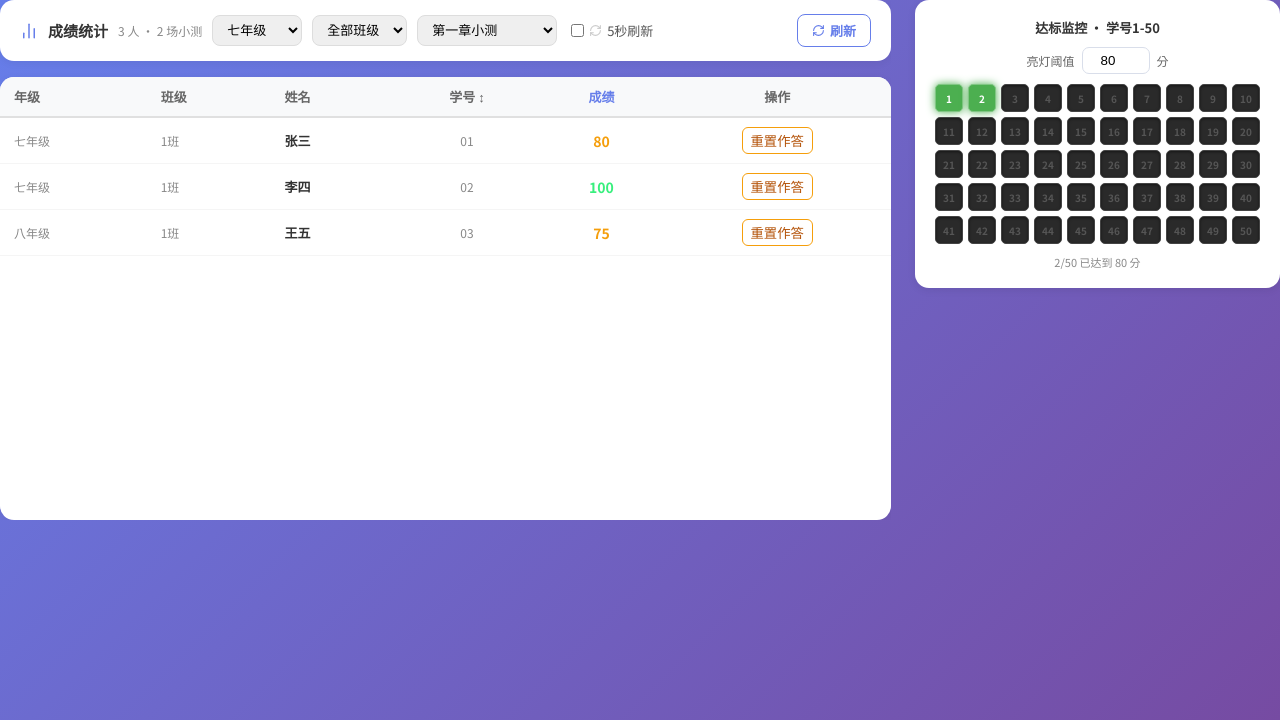
Test: Tab3Stats › 真实灯阵支持按小测设置阈值并保存
The width and height of the screenshot is (1280, 720).
Expected: the text named "学号 1已亮灯" is shown, [935,84,963,112]
Replace the text in the number field named "信息科技小测亮灯阈值" with "90" at (1116, 60), box [1082,47,1150,74]
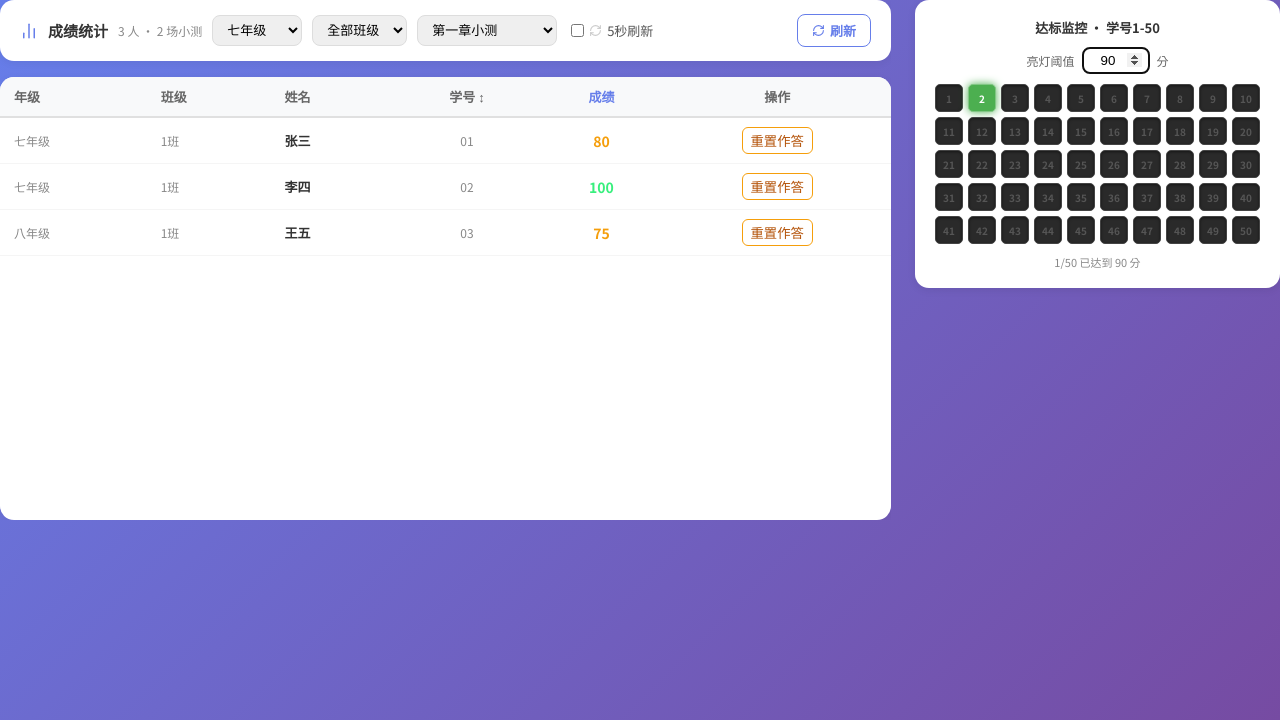
Expected: the text named "学号 2已亮灯" is shown, [968,84,996,112]
Expected: the text named "学号 1未亮灯" is shown, [935,84,963,112]
